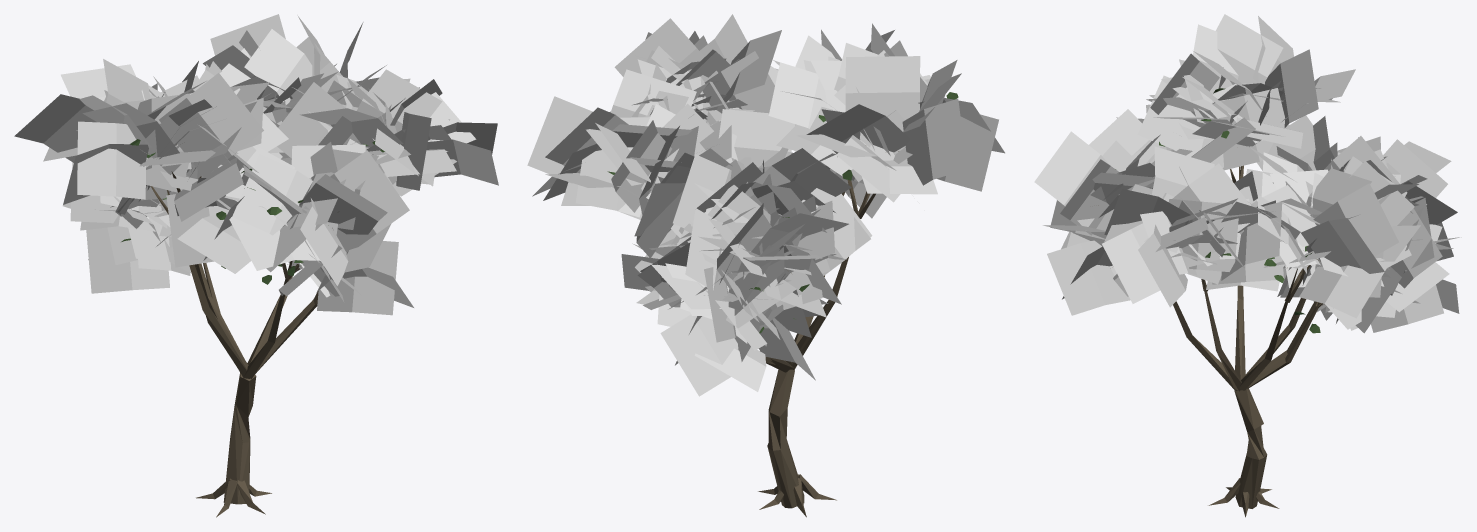
File: CheneVert_Dense_LOD2.fbx
The picture shows the model from 3 angles, left to right: view 1: azimuth 30°, elevation 25°; view 2: azimuth 150°, elevation 25°; view 3: azimuth 270°, elevation 25°; orthographic projection. The views are drawn at different scales.
Parts seen in each view (by area): view 1: CheneVert_Dense_LOD2; view 2: CheneVert_Dense_LOD2; view 3: CheneVert_Dense_LOD2.
Part boxes in pixels (<box>): CheneVert_Dense_LOD2: <box>14,14,498,517</box>; CheneVert_Dense_LOD2: <box>527,14,1004,517</box>; CheneVert_Dense_LOD2: <box>1034,14,1461,517</box>.
Bounding box in the file's own units: 723 × 787 × 710.
